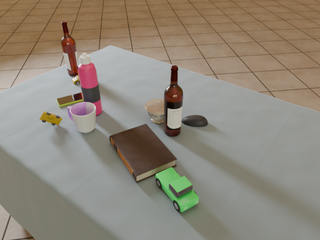book: (110, 124, 177, 183)
bottle: (78, 53, 102, 115), (164, 66, 183, 136), (61, 21, 79, 76)
cup: (68, 102, 96, 133), (145, 99, 164, 123)
mouse: (182, 115, 208, 127)
phone: (56, 93, 84, 107)
toy_car: (156, 167, 199, 212), (40, 112, 62, 126), (72, 74, 80, 84)
